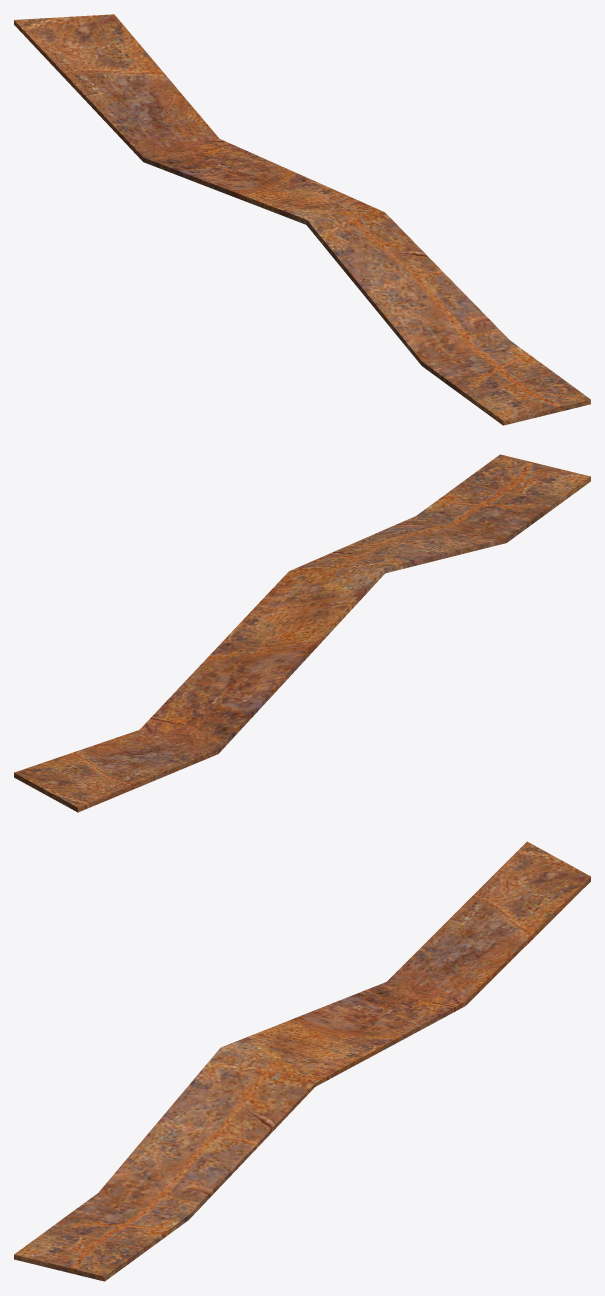
Rendered from Metal_Bar_A_3.fbx.
3 views of the same model, one above another, from view 1: azimuth 30°, elevation 25°; view 2: azimuth 150°, elevation 25°; view 3: azimuth 330°, elevation 25° (orthographic). The views are drawn at different scales.
Visible parts, largest first — view 1: pCube9; view 2: pCube9; view 3: pCube9.
Part boxes in pixels (bbox=[...]): pCube9: bbox=[14, 14, 590, 425]; pCube9: bbox=[14, 454, 590, 812]; pCube9: bbox=[14, 841, 590, 1281].
Size of the model in its own units: 0.975 by 0.6412 by 9.48.
